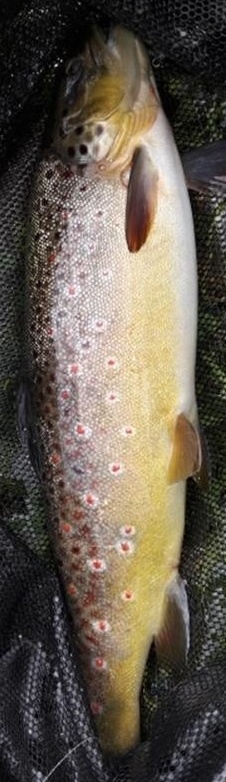Salmo trutta subsp. fario: (20, 20, 206, 762)
